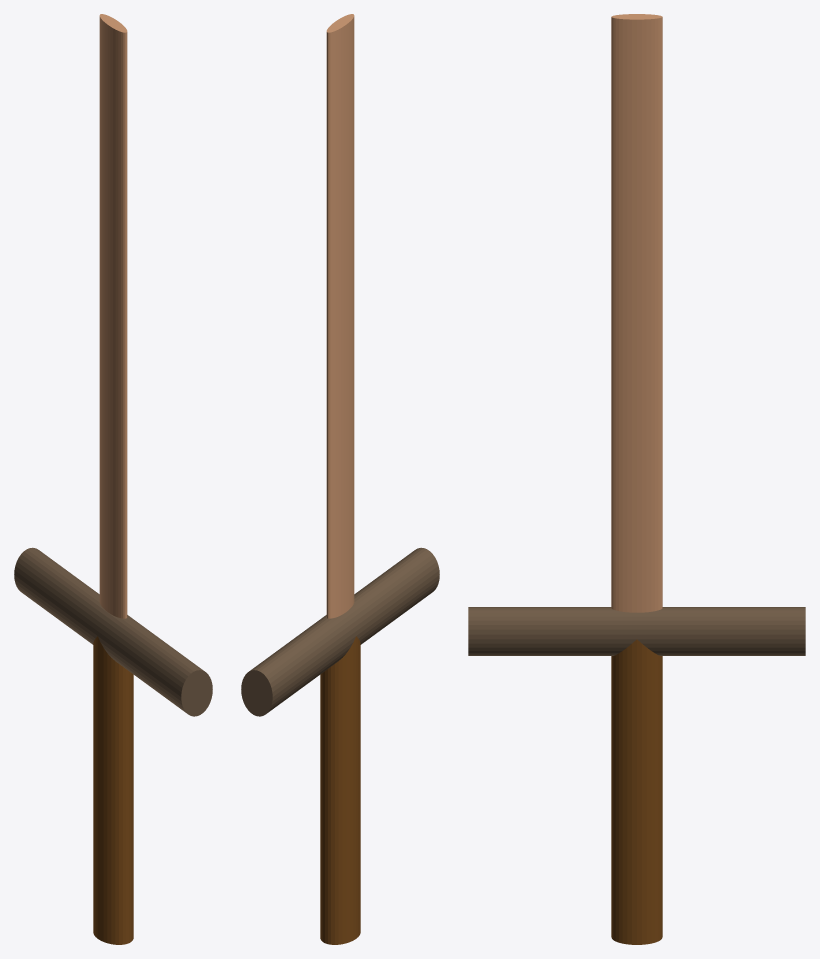
Rendered from cardboard_sword.fbx.
3 renders of one model, left to right at view 1: azimuth 30°, elevation 25°; view 2: azimuth 150°, elevation 25°; view 3: azimuth 270°, elevation 25°, orthographic.
Parts seen in each view (by area): view 1: Swordbit, gripbit, middlebit; view 2: Swordbit, gripbit, middlebit; view 3: Swordbit, middlebit, gripbit.
Boxes of the visible parts, bbox=[...] form: Swordbit: bbox=[99, 14, 127, 618]; gripbit: bbox=[93, 636, 133, 944]; middlebit: bbox=[14, 547, 212, 716]; Swordbit: bbox=[326, 14, 354, 618]; gripbit: bbox=[320, 636, 360, 944]; middlebit: bbox=[241, 547, 439, 716]; Swordbit: bbox=[611, 14, 662, 612]; middlebit: bbox=[468, 607, 805, 655]; gripbit: bbox=[611, 639, 662, 944].
Bounding box in the file's own units: 72 × 1986 × 660.
